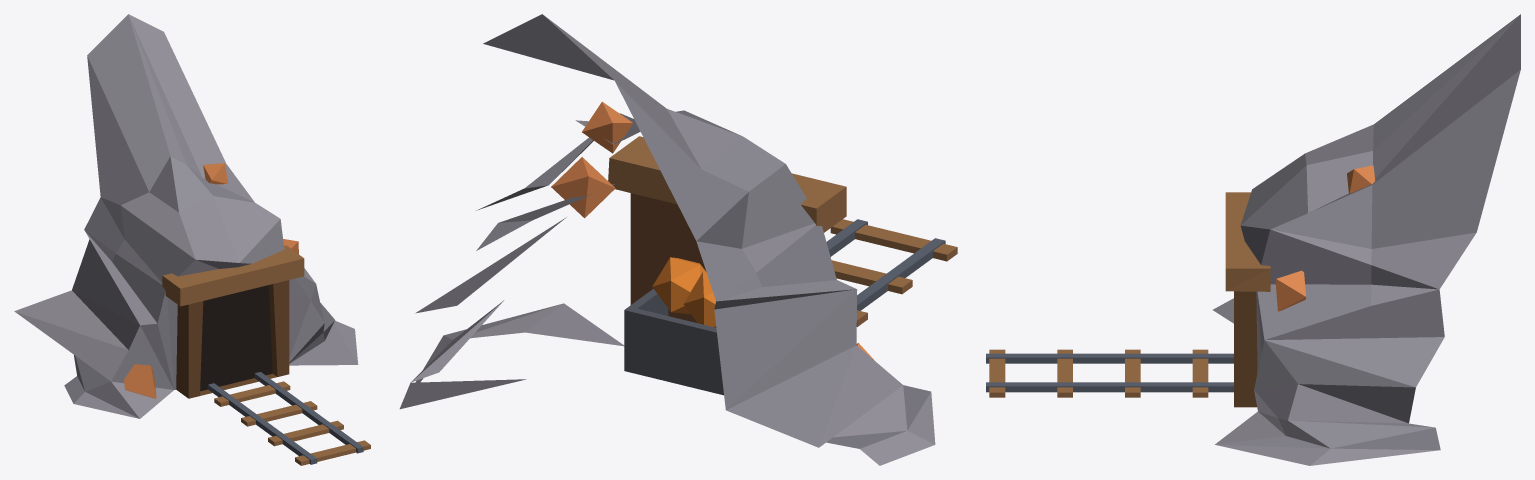
Rendered from copper-mine.glb.
3 renders of one model, left to right at view 1: azimuth 30°, elevation 25°; view 2: azimuth 150°, elevation 25°; view 3: azimuth 270°, elevation 25°, orthographic. The views are drawn at different scales.
Visible parts, largest first — view 1: mountains, copper_mine; view 2: mountains, copper_mine, copper_mine.001; view 3: mountains, copper_mine.
Boxes of the visible parts, x1,y1,x2,y2 form: mountains: (14, 14, 358, 418); copper_mine: (124, 163, 370, 465); mountains: (399, 14, 935, 465); copper_mine: (551, 101, 957, 360); copper_mine.001: (624, 257, 723, 395); mountains: (1213, 14, 1520, 465); copper_mine: (986, 165, 1374, 407).
Size of the model in its own units: 0.3714 by 0.3594 by 0.4737.
